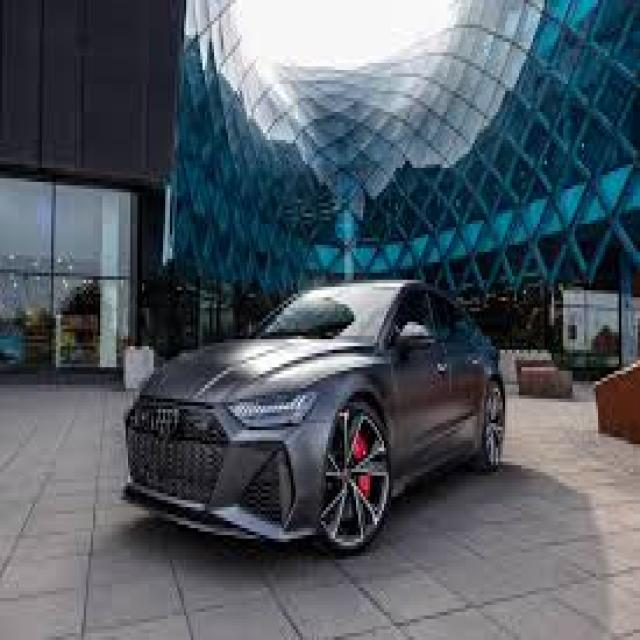Car: (126, 280, 505, 551)
